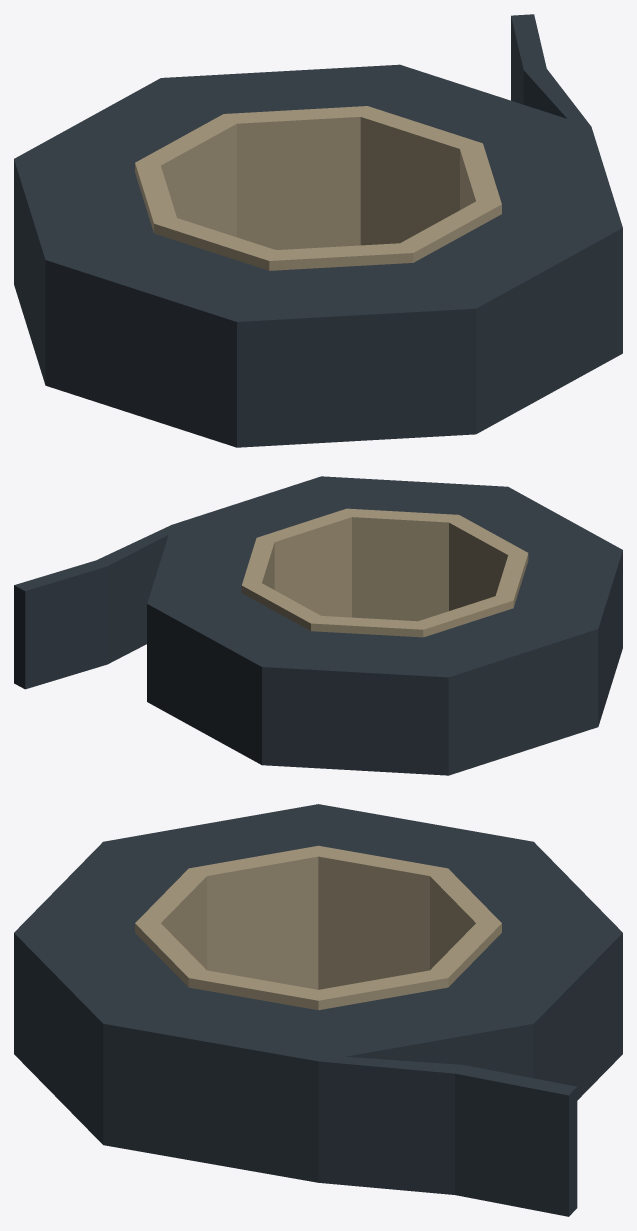
The model's file is Tape.fbx.
3 renders of one model, top to bottom at view 1: azimuth 30°, elevation 25°; view 2: azimuth 150°, elevation 25°; view 3: azimuth 270°, elevation 25°, orthographic. The views are drawn at different scales.
Visible parts, largest first — view 1: pCylinder1; view 2: pCylinder1; view 3: pCylinder1.
Boxes of the visible parts, box(x1,y1,x2,y2) form: pCylinder1: box(14, 14, 622, 447); pCylinder1: box(14, 476, 622, 775); pCylinder1: box(14, 804, 622, 1216).
Bounding box in the file's own units: 1.75 × 0.3923 × 1.54.
